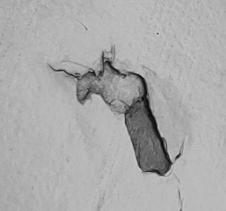paint-off: (1, 0, 226, 211)
